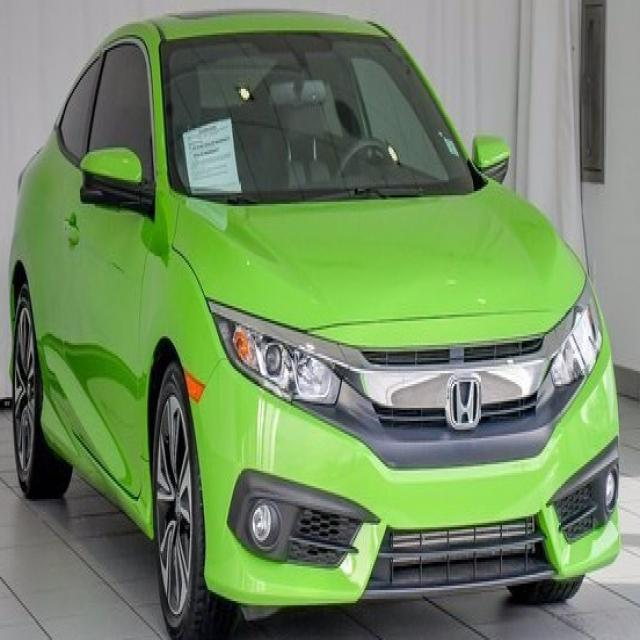green: (10, 13, 621, 635)
